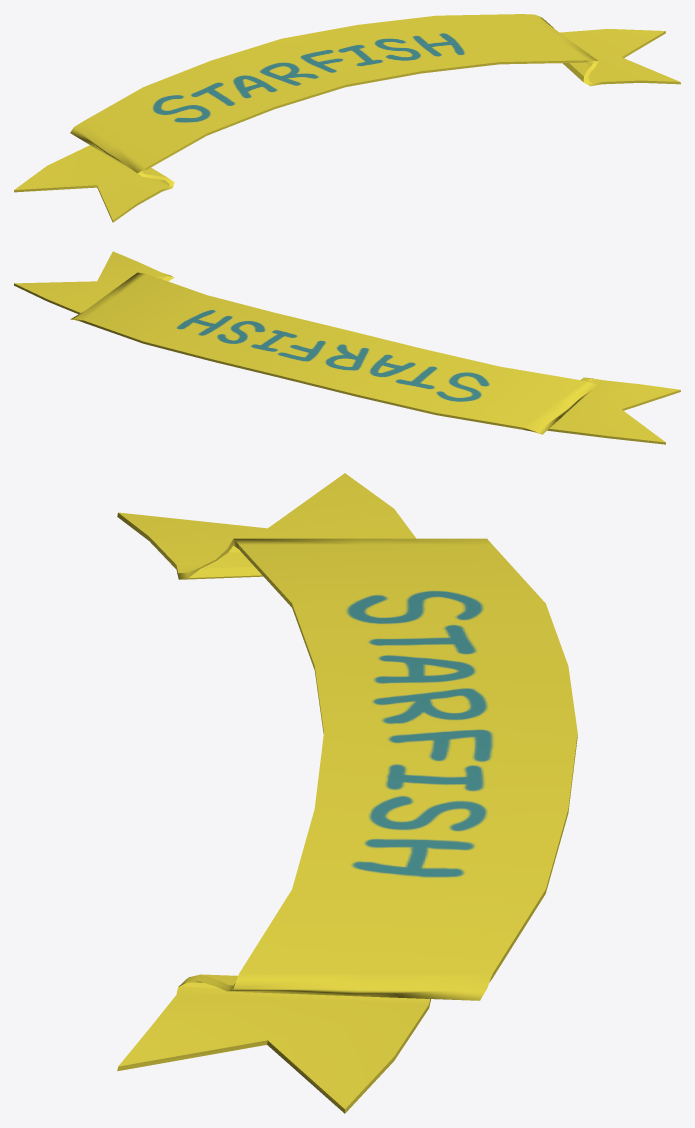
File: ribon.FBX
3 renders of one model, top to bottom at view 1: azimuth 30°, elevation 25°; view 2: azimuth 150°, elevation 25°; view 3: azimuth 270°, elevation 25°, orthographic. The views are drawn at different scales.
Parts seen in each view (by area): view 1: Box023; view 2: Box023; view 3: Box023.
Boxes of the visible parts, x1,y1,x2,y2 form: Box023: [14, 14, 680, 222]; Box023: [14, 251, 680, 444]; Box023: [117, 473, 577, 1113].
Size of the model in its own units: 594 by 27.52 by 181.
